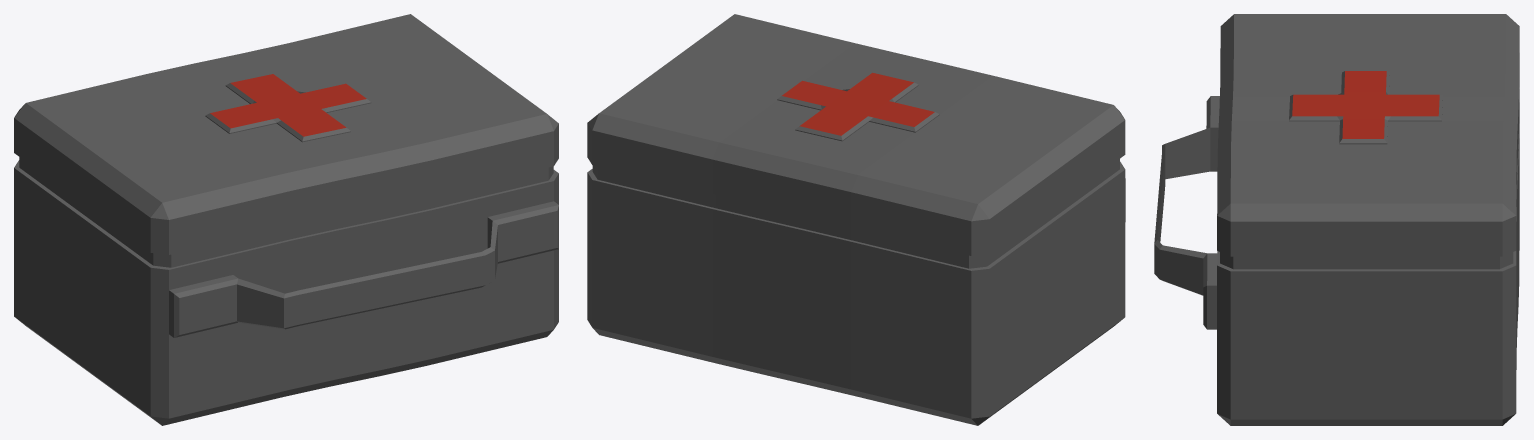
Rendered from medical chest.fbx.
3 views of the same model, side by side, from view 1: azimuth 30°, elevation 25°; view 2: azimuth 150°, elevation 25°; view 3: azimuth 270°, elevation 25° (orthographic).
Visible parts, largest first — view 1: 立方体; view 2: 立方体; view 3: 立方体.
Boxes of the visible parts, box(x1,y1,x2,y2) form: 立方体: box(14, 14, 558, 425); 立方体: box(587, 14, 1125, 425); 立方体: box(1154, 14, 1519, 425).
Size of the model in its own units: 313 by 169 by 244.
